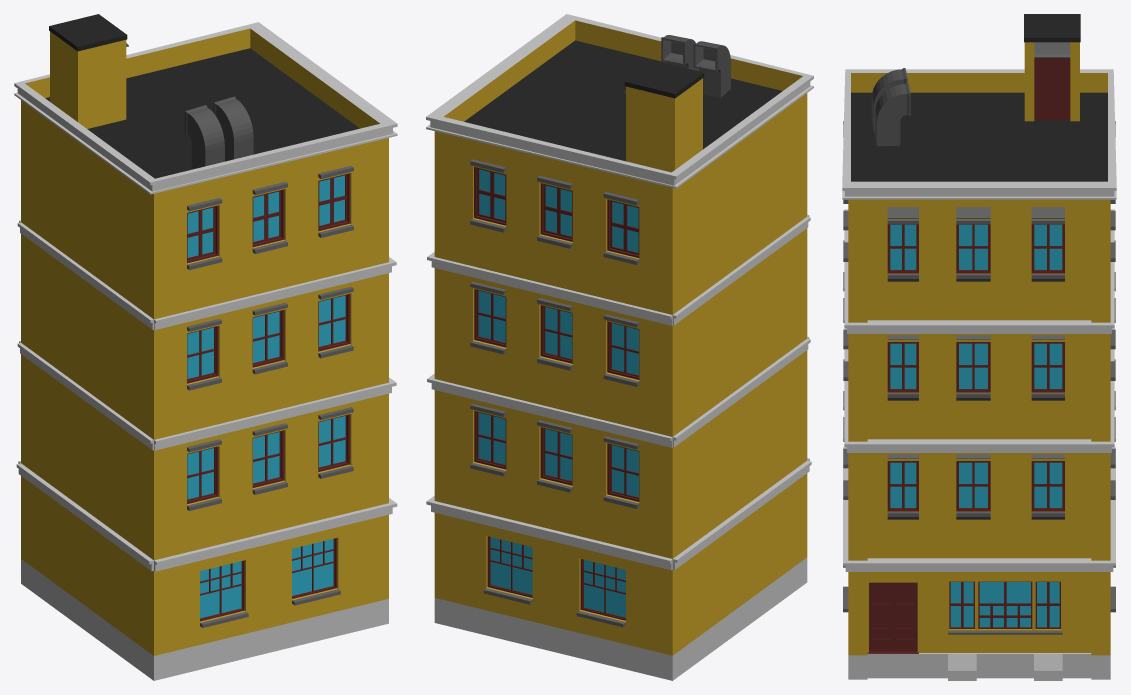
The model's file is Building1.obj.
3 views of the same model, side by side, from view 1: azimuth 30°, elevation 25°; view 2: azimuth 150°, elevation 25°; view 3: azimuth 270°, elevation 25° (orthographic). The views are drawn at different scales.
Parts seen in each view (by area): view 1: Cube.001, Cube.004, Cube; view 2: Cube.001, Cube.004, Cube; view 3: Cube.004, Cube.001, Cube.
Part boxes in pixels (<box>): Cube.001: <box>17,220,396,560</box>; Cube.004: <box>14,14,397,319</box>; Cube: <box>16,460,397,680</box>; Cube.001: <box>427,214,810,558</box>; Cube.004: <box>426,14,813,314</box>; Cube: <box>426,458,811,680</box>; Cube.004: <box>842,14,1116,322</box>; Cube.001: <box>843,209,1115,560</box>; Cube: <box>843,447,1115,680</box>.
Size of the model in its own units: 1.07 by 2.35 by 1.04.
